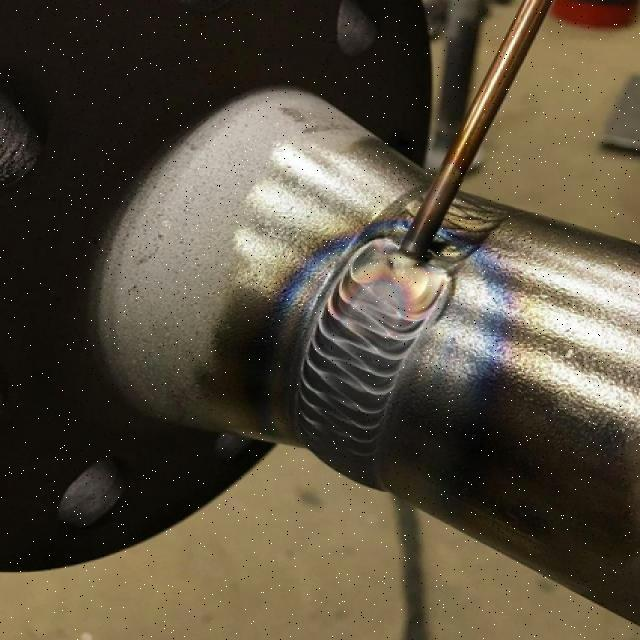Good Welding: (298, 239, 449, 489)
